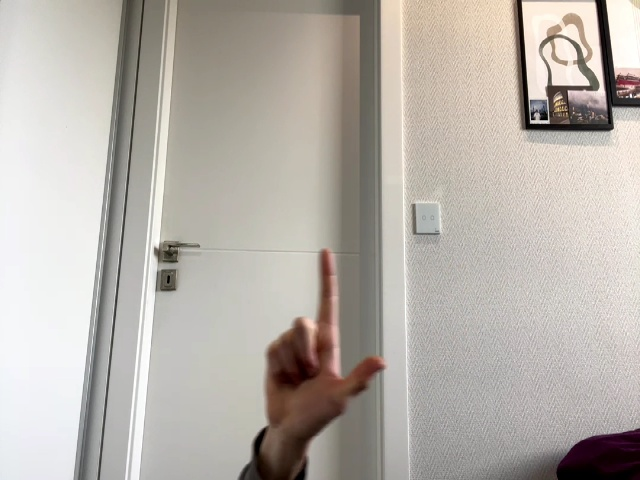L: (263, 249, 385, 458)
